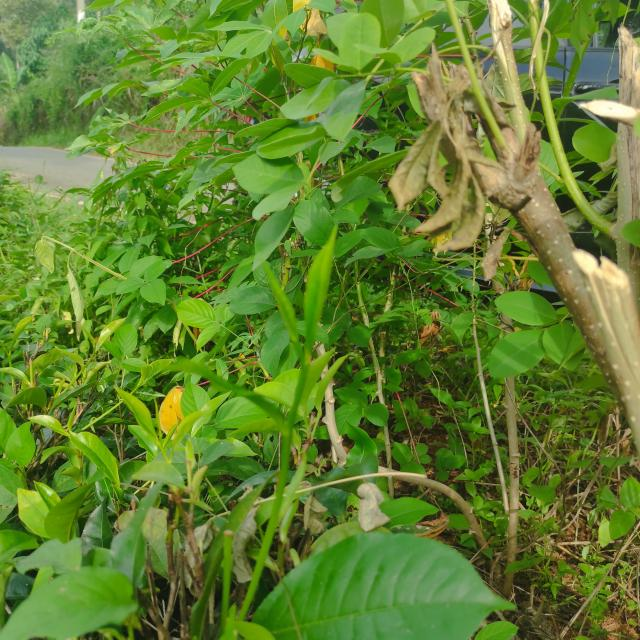unopened_leaf: (298, 211, 343, 364), (258, 251, 307, 364)
